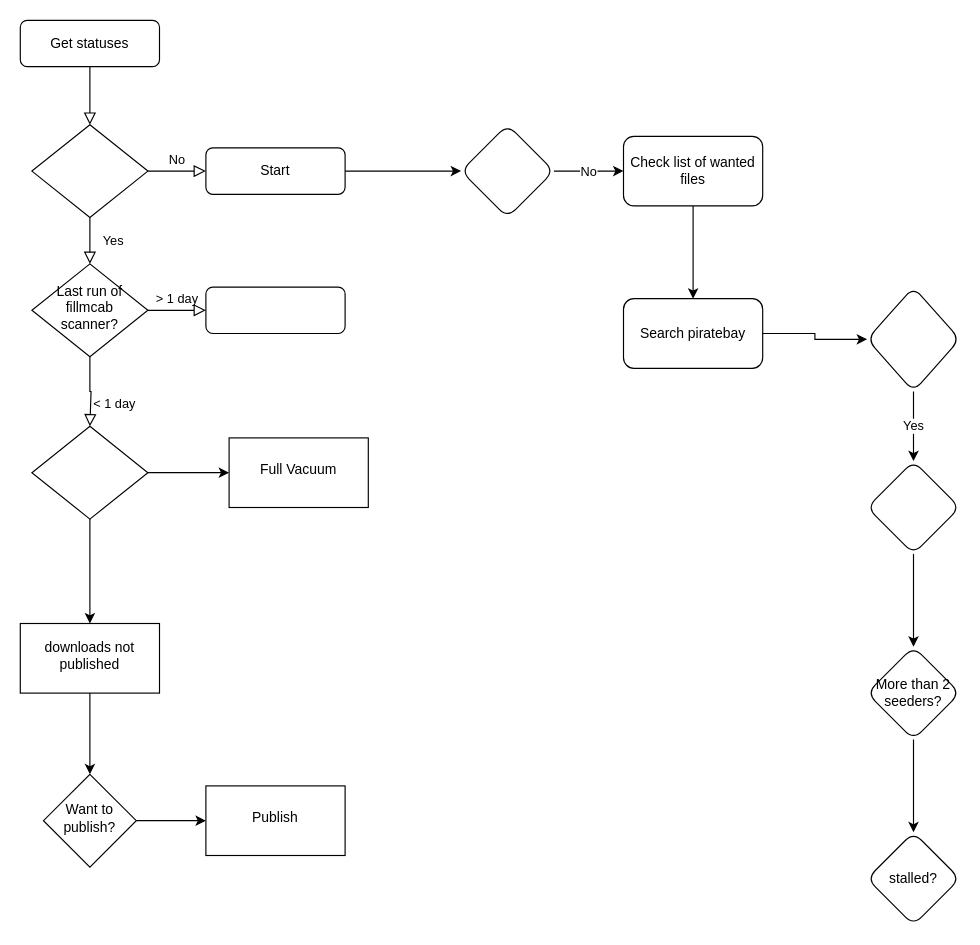
Some shapes in this 980 by 945 pixel diagram are drawn without their labels. The centre of each missing label's shape, as x and y in pixels:
"Downloading?" goes at point 507,170.
"found?" goes at point 913,339.
"Last vacuum?" goes at point 89,472.
"qbittorrent running?" goes at point 89,170.
"Run scanner" goes at point 275,310.
"Under 2G?" goes at point 913,507.
